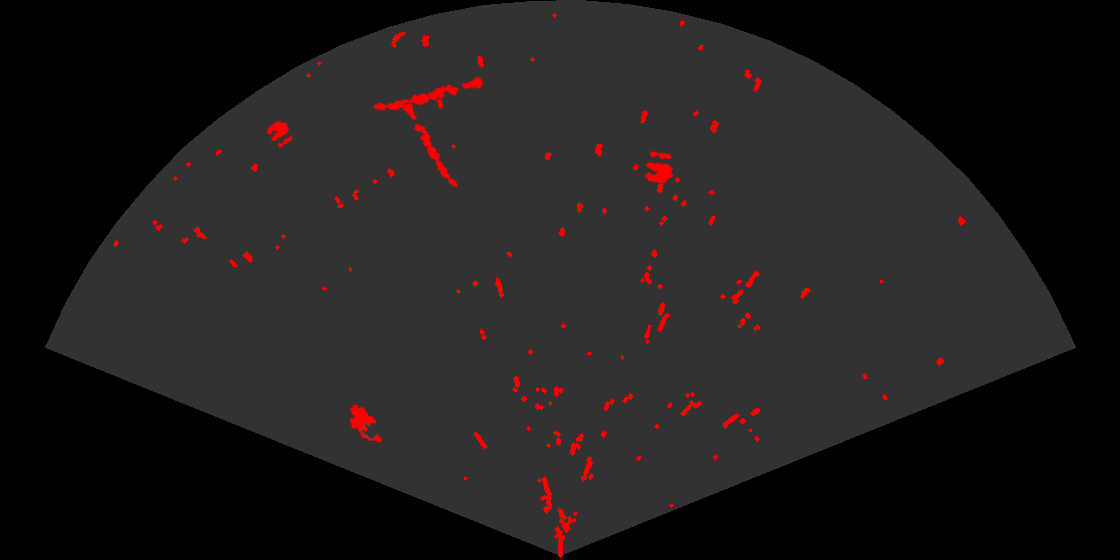AUV: (348, 403, 383, 444)
ball: (643, 150, 675, 185), (265, 119, 294, 149)
chain: (402, 101, 460, 189), (372, 75, 486, 112)
